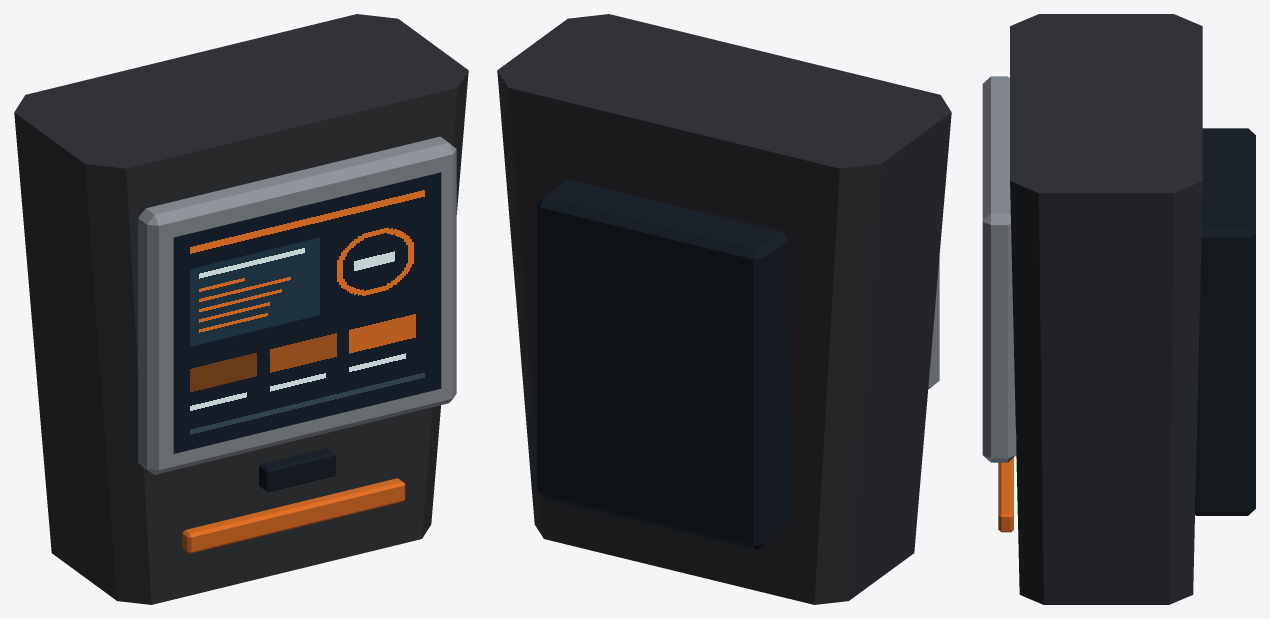
File: terminal-wall-compact-falkenfeld-kessler.glb
3 renders of one model, left to right at view 1: azimuth 30°, elevation 25°; view 2: azimuth 150°, elevation 25°; view 3: azimuth 270°, elevation 25°, orthographic. The views are drawn at different scales.
Visible parts, largest first — view 1: Housing, Display, Trim, Identity, Rubber; view 2: Housing, Rubber, Trim; view 3: Housing, Rubber, Trim, Identity.
Boxes of the visible parts, x1=… form: Housing: x1=14, y1=14, x2=468, y2=604; Display: x1=173, y1=172, x2=441, y2=453; Trim: x1=138, y1=136, x2=456, y2=474; Identity: x1=182, y1=478, x2=405, y2=553; Rubber: x1=259, y1=448, x2=335, y2=491; Housing: x1=497, y1=14, x2=951, y2=604; Rubber: x1=537, y1=179, x2=790, y2=550; Trim: x1=928, y1=257, x2=939, y2=388; Housing: x1=1010, y1=14, x2=1202, y2=604; Rubber: x1=1195, y1=128, x2=1255, y2=515; Trim: x1=982, y1=76, x2=1016, y2=462; Identity: x1=998, y1=457, x2=1013, y2=532.
Size of the model in its own units: 0.352 by 0.392 by 0.2288.
Materials: 5 (1 with a texture image).
